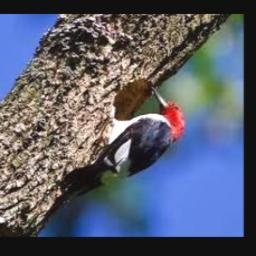Woodpecker: (60, 87, 184, 205)
